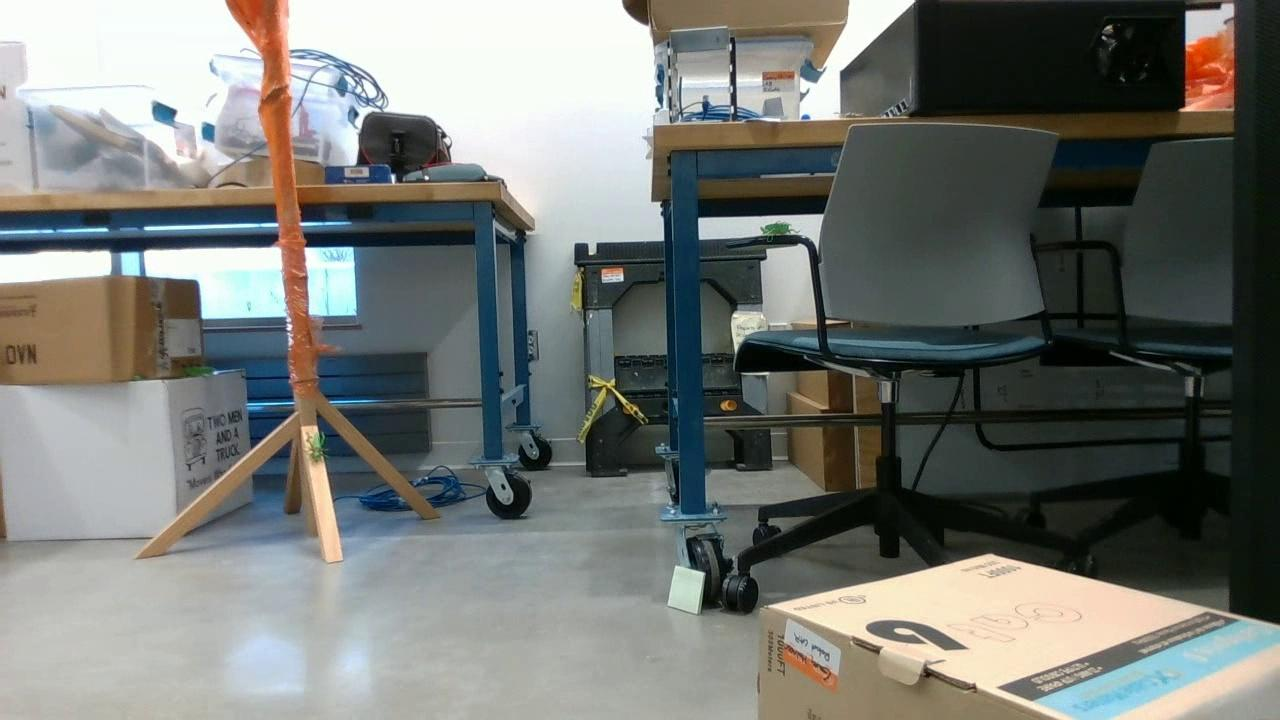grasshopper: (302, 429, 327, 461), (182, 367, 217, 378)
